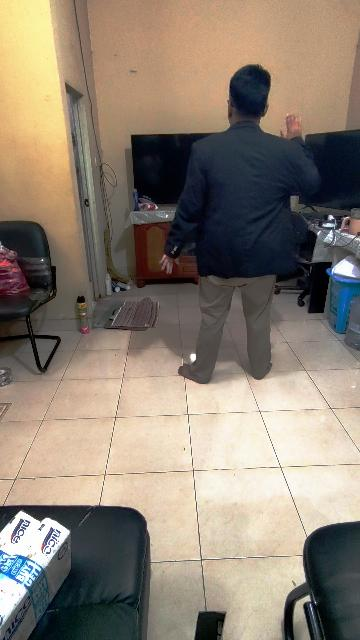berdiri: (158, 62, 320, 392)
